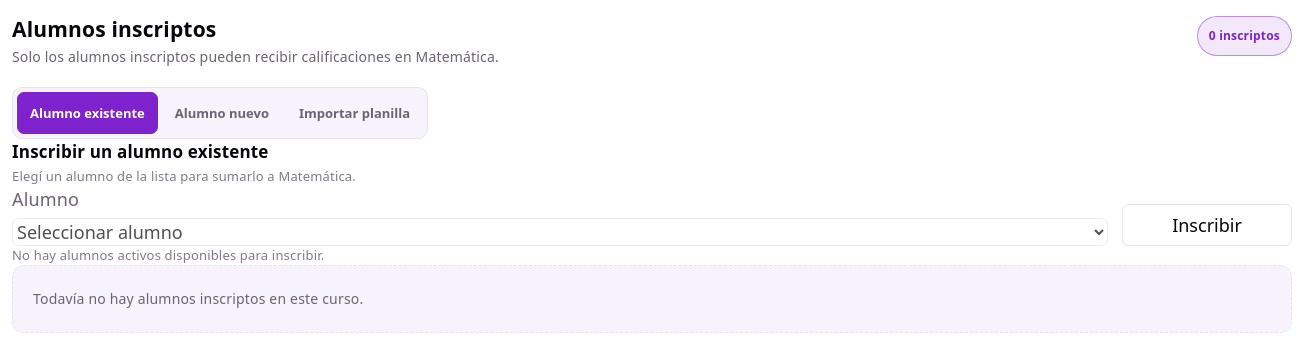
Test case: GestionInscripciones › deshabilita la importación mientras se está procesando
Click the tab "Importar planilla" at coordinates (354, 113), box [286,92,423,134]
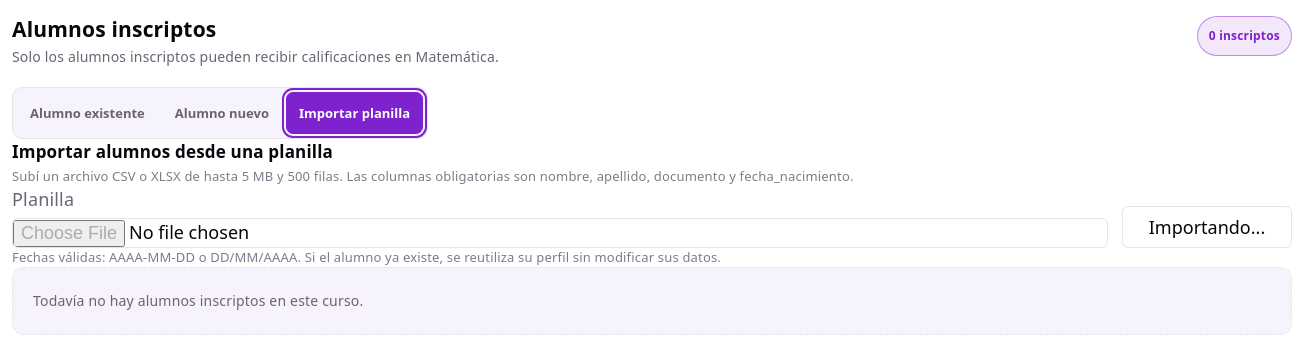
Expected: the button "Importando..." is disabled, [1122,206,1292,248]
Result: the file field labelled "Planilla" is disabled at [12,218,1108,248]
